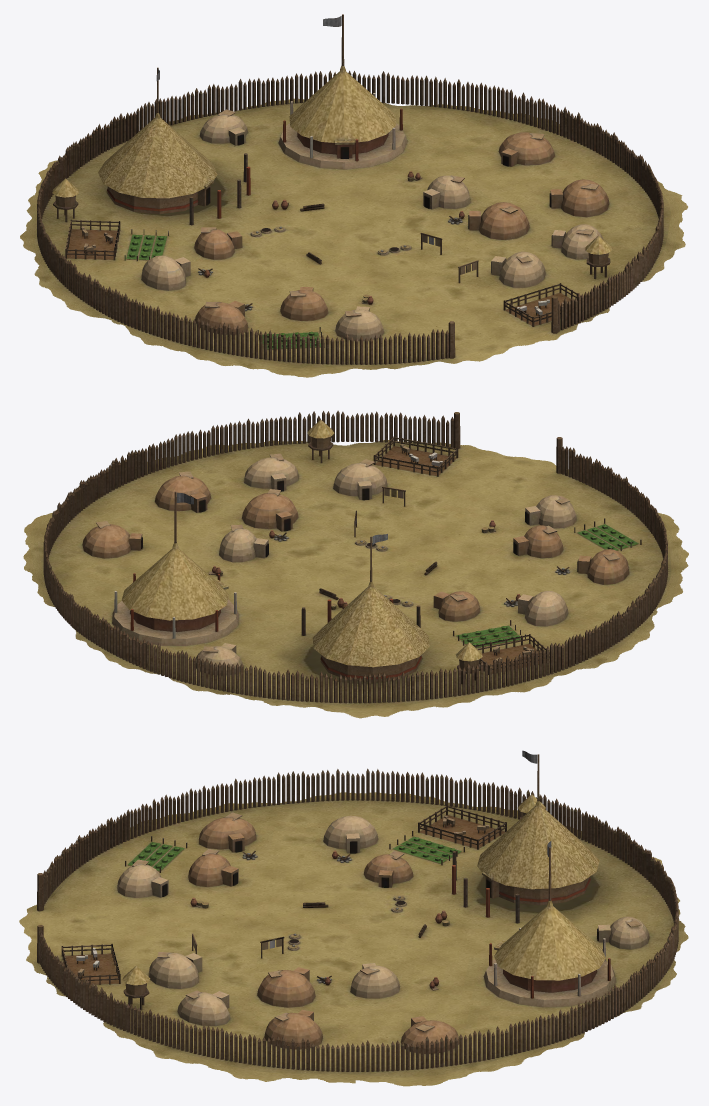
Rendered from stone-town-medium-b-eastafrica.glb.
3 renders of one model, top to bottom at view 1: azimuth 30°, elevation 25°; view 2: azimuth 150°, elevation 25°; view 3: azimuth 270°, elevation 25°, orthographic. The views are drawn at different scales.
Visible parts, largest first — view 1: LOD0; view 2: LOD0; view 3: LOD0.
Part boxes in pixels (x1,y1,x2,y2): LOD0: (20, 14, 687, 377); LOD0: (23, 410, 688, 718); LOD0: (19, 750, 688, 1086).
Size of what is drawn, in the model's own units: 6.01 by 1.25 by 5.73.
3 materials, 3 textured.
